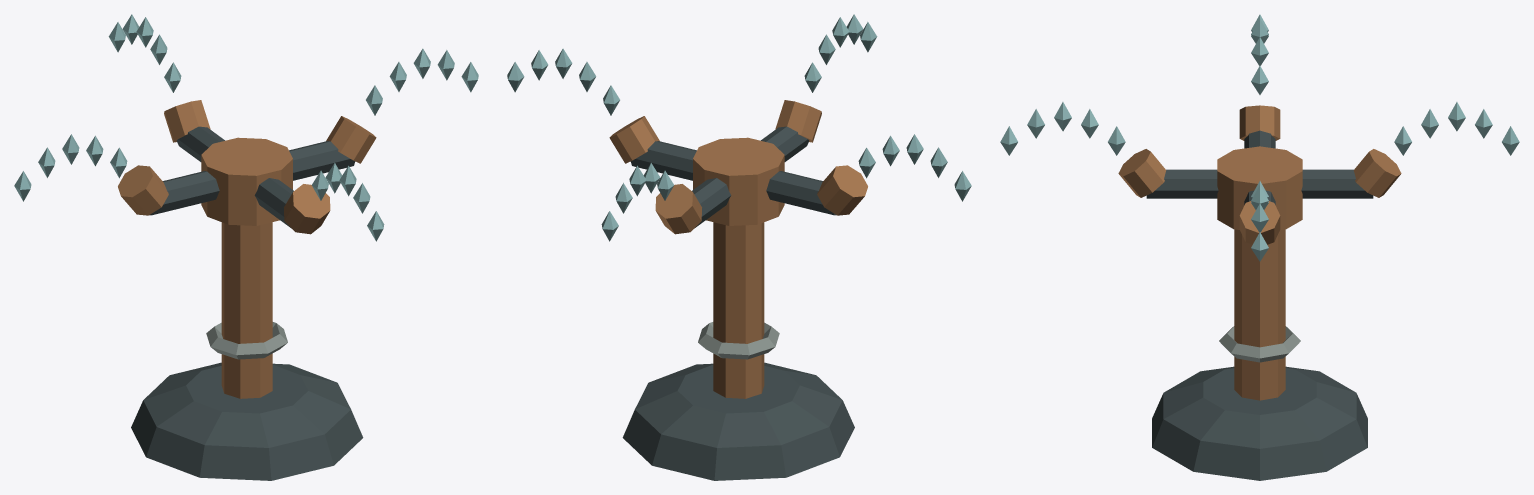
The model's file is sprinkler_plus.glb.
3 renders of one model, left to right at view 1: azimuth 30°, elevation 25°; view 2: azimuth 150°, elevation 25°; view 3: azimuth 270°, elevation 25°, orthographic. The views are drawn at different scales.
Visible parts, largest first — view 1: geometry, spin, working; view 2: geometry, spin, working; view 3: geometry, spin, working.
Part boxes in pixels (bbox=[...]): geometry: bbox=[131, 222, 363, 480]; spin: bbox=[118, 100, 376, 234]; working: bbox=[14, 14, 478, 241]; geometry: bbox=[622, 222, 854, 480]; spin: bbox=[609, 100, 867, 234]; working: bbox=[507, 14, 971, 241]; geometry: bbox=[1152, 229, 1367, 480]; spin: bbox=[1118, 105, 1401, 244]; working: bbox=[1000, 14, 1519, 261].
Bounding box in the file's own units: 0.8671 × 0.613 × 0.8704.
